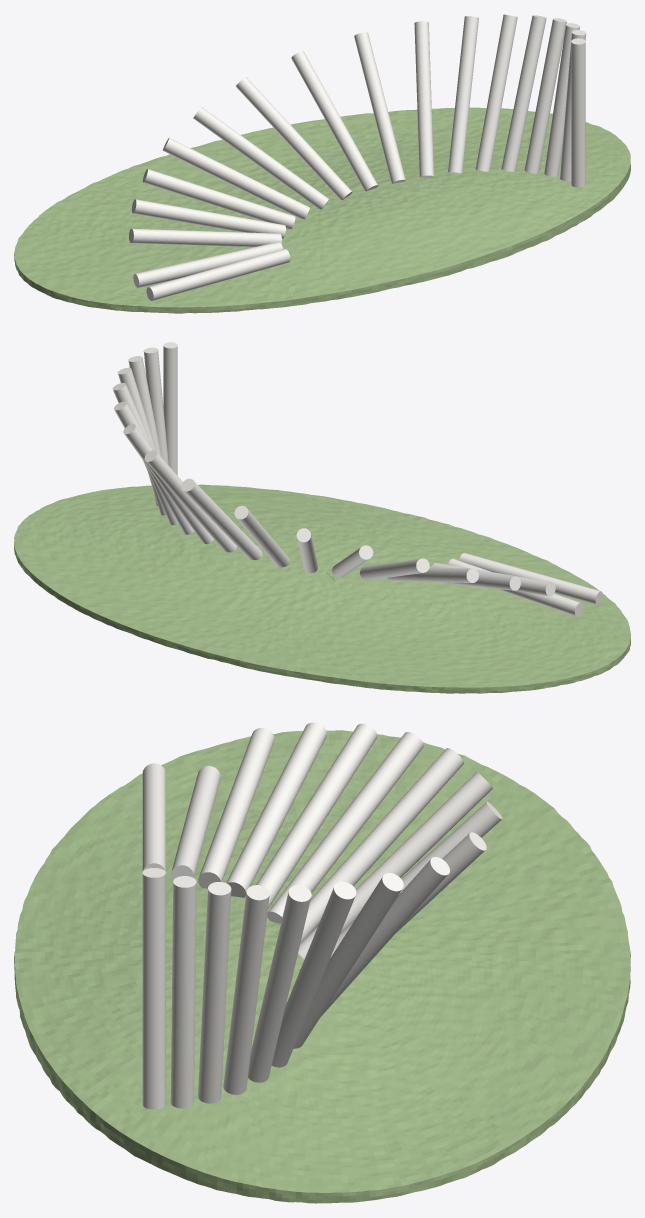
Rendered from barda_caida_v10.glb.
The picture shows the model from 3 angles, top to bottom: view 1: azimuth 30°, elevation 25°; view 2: azimuth 150°, elevation 25°; view 3: azimuth 270°, elevation 25°; orthographic projection. The views are drawn at different scales.
Parts seen in each view (by area): view 1: BardaCaida_v10; view 2: BardaCaida_v10; view 3: BardaCaida_v10.
Boxes of the visible parts, <box> form: BardaCaida_v10: <box>14,14,630,313</box>; BardaCaida_v10: <box>14,342,630,693</box>; BardaCaida_v10: <box>14,722,630,1203</box>.
Bounding box in the file's own units: 1.29 × 0.3376 × 0.7238.
